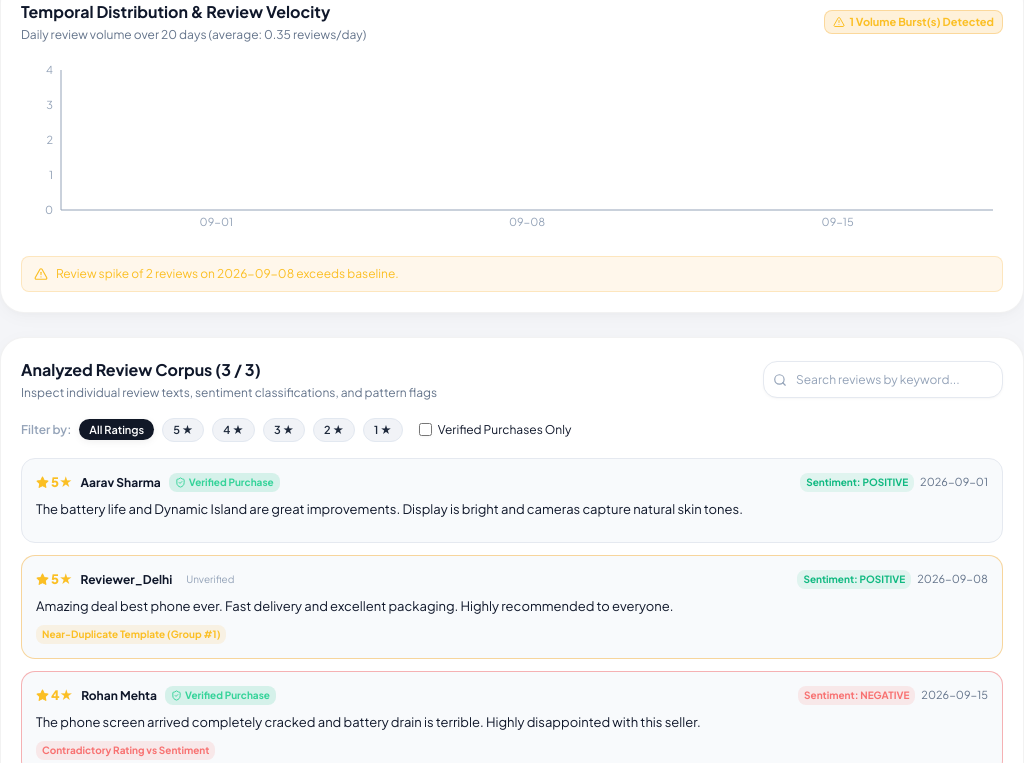
Test: ReviewAnalysis Page › filters reviews by keyword search and rating
The width and height of the screenshot is (1024, 763).
(page scrolled)
Expected: the text "Aarav Sharma" is shown, [81, 474, 161, 492]
Search by keyword
Type "Dynamic Island" into the field with placeholder "Search reviews by keyword..." at [883, 380], box [763, 361, 1003, 398]
(page scrolled)
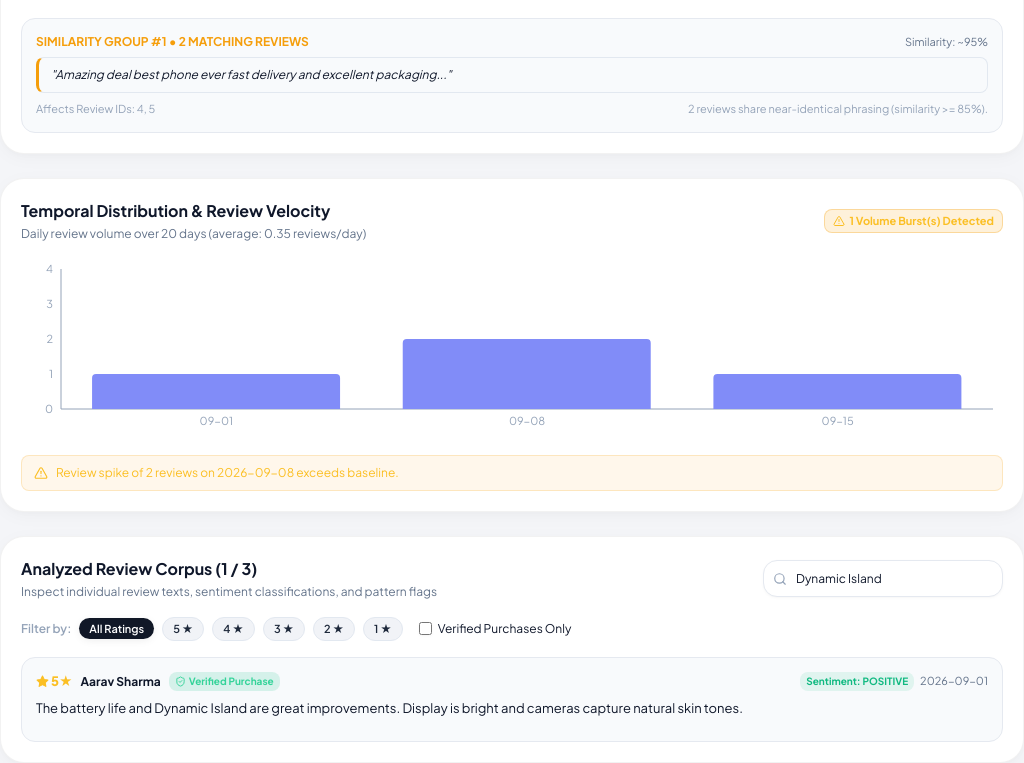
Expected: the text "Aarav Sharma" is shown, [81, 672, 161, 690]
Expected: the text "Rohan Mehta" is gone
